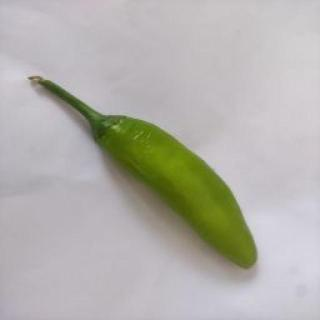Cabai Hijau: (22, 71, 262, 275)
